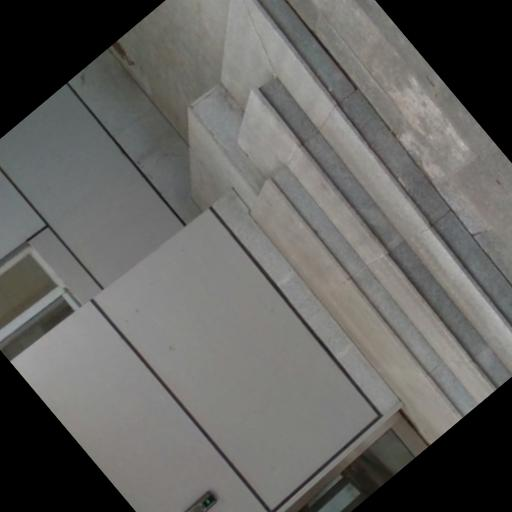stairs: (223, 0, 511, 443)
